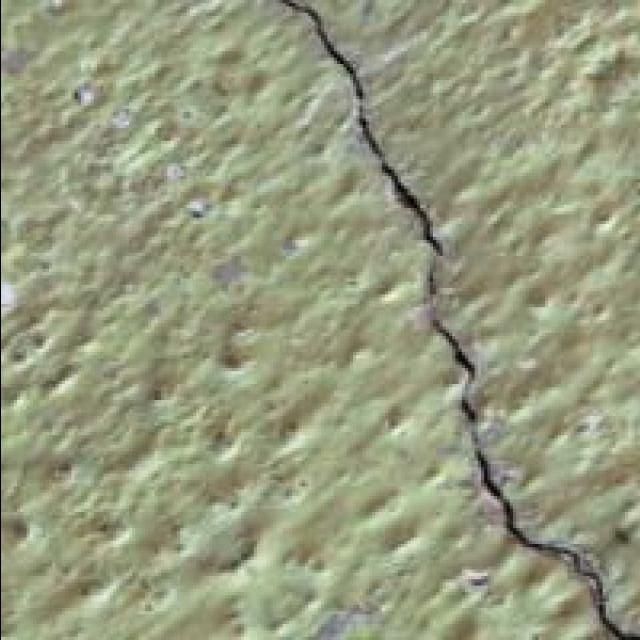SurfaceCrack: (266, 0, 640, 640)
